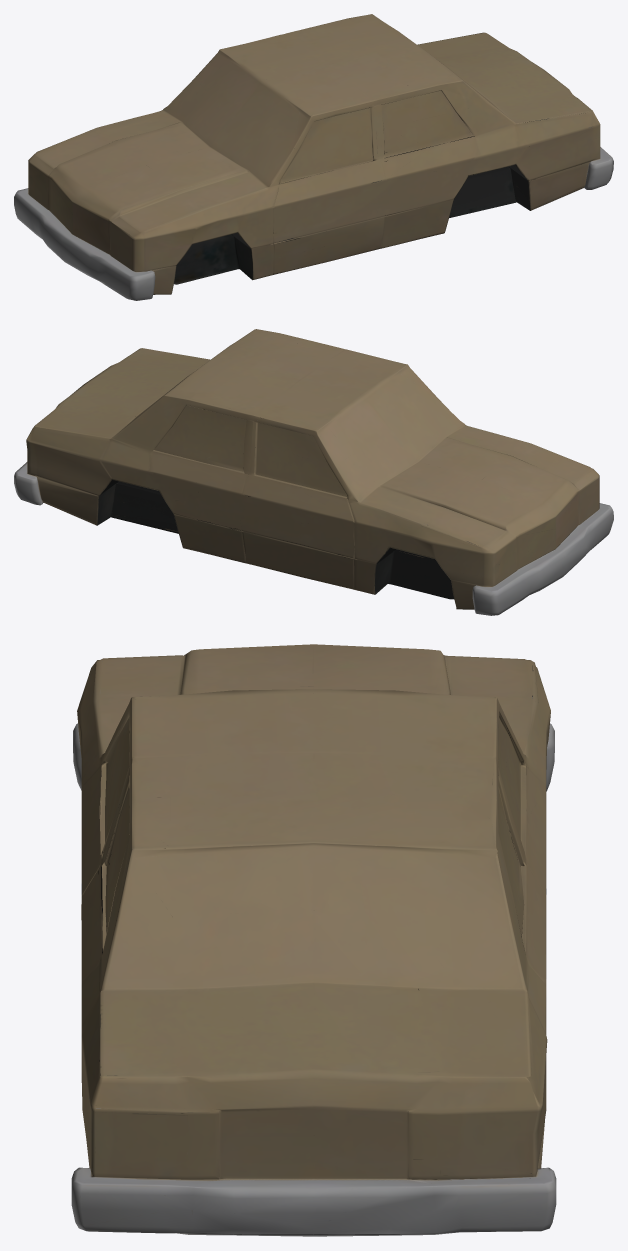
The model's file is sedan.glb.
The picture shows the model from 3 angles, top to bottom: view 1: azimuth 30°, elevation 25°; view 2: azimuth 150°, elevation 25°; view 3: azimuth 270°, elevation 25°; orthographic projection. The views are drawn at different scales.
Parts seen in each view (by area): view 1: geometry_0; view 2: geometry_0; view 3: geometry_0.
Part boxes in pixels (bbox=[...]): geometry_0: bbox=[14, 14, 613, 300]; geometry_0: bbox=[14, 329, 613, 615]; geometry_0: bbox=[71, 644, 556, 1236].
Bounding box in the file's own units: 0.9531 × 0.2617 × 0.3989.
Materials: 1 (1 with a texture image).
